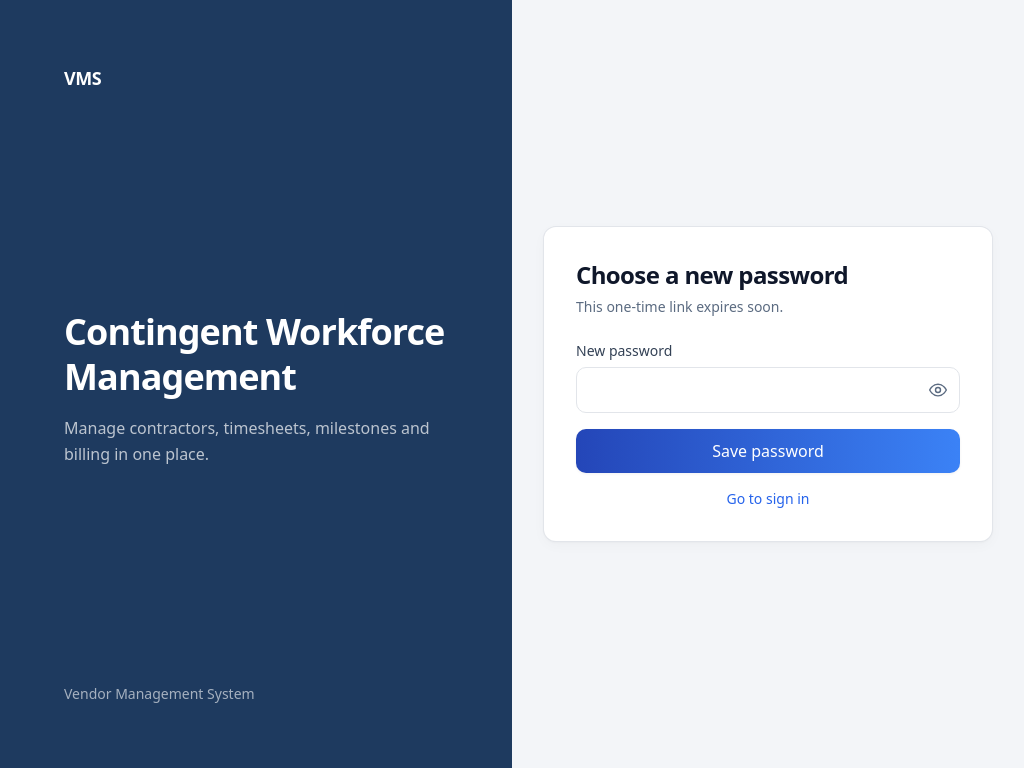
Scenario: rejects a too-short password before making a request
In the password field labelled "New password": (768, 390) [576,367,960,413], type "short"
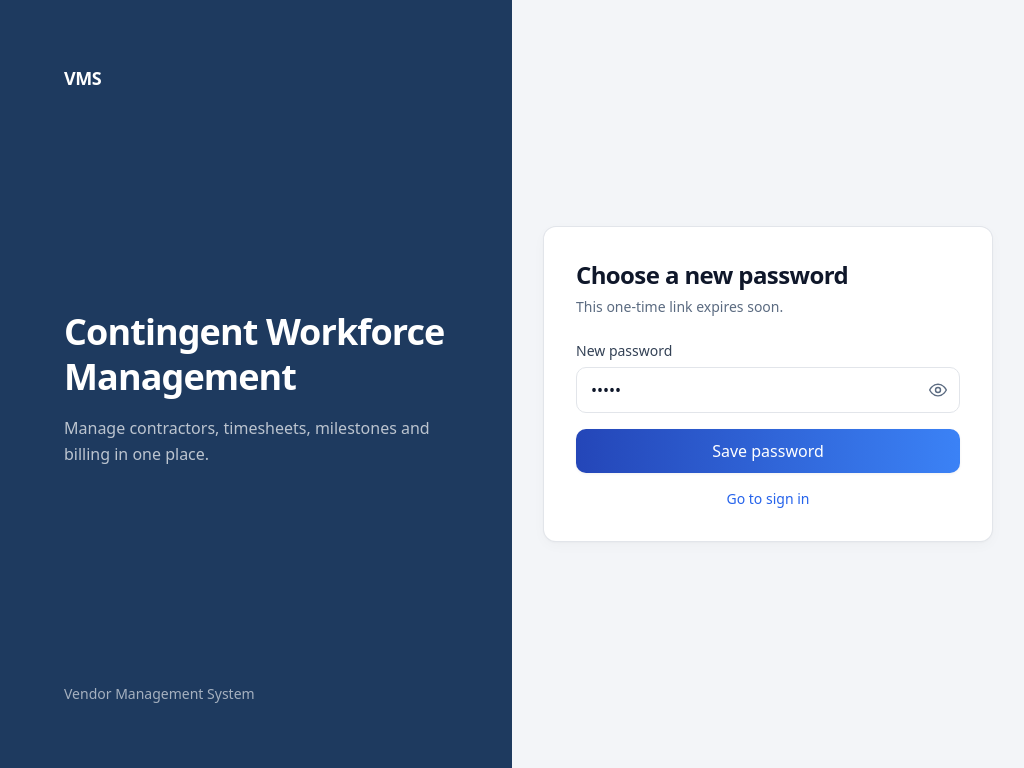
Click the button "Save password": click(768, 451) [576,429,960,473]
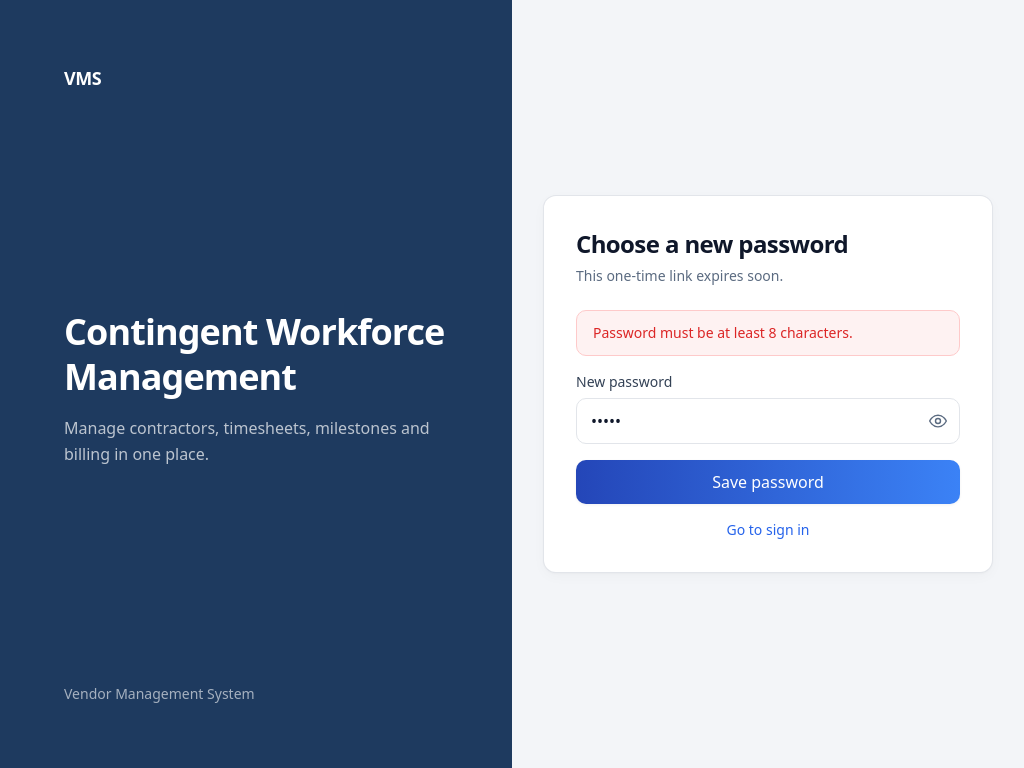
Result: the text "Password must be at least 8 characters." is shown at [576,310,960,356]
